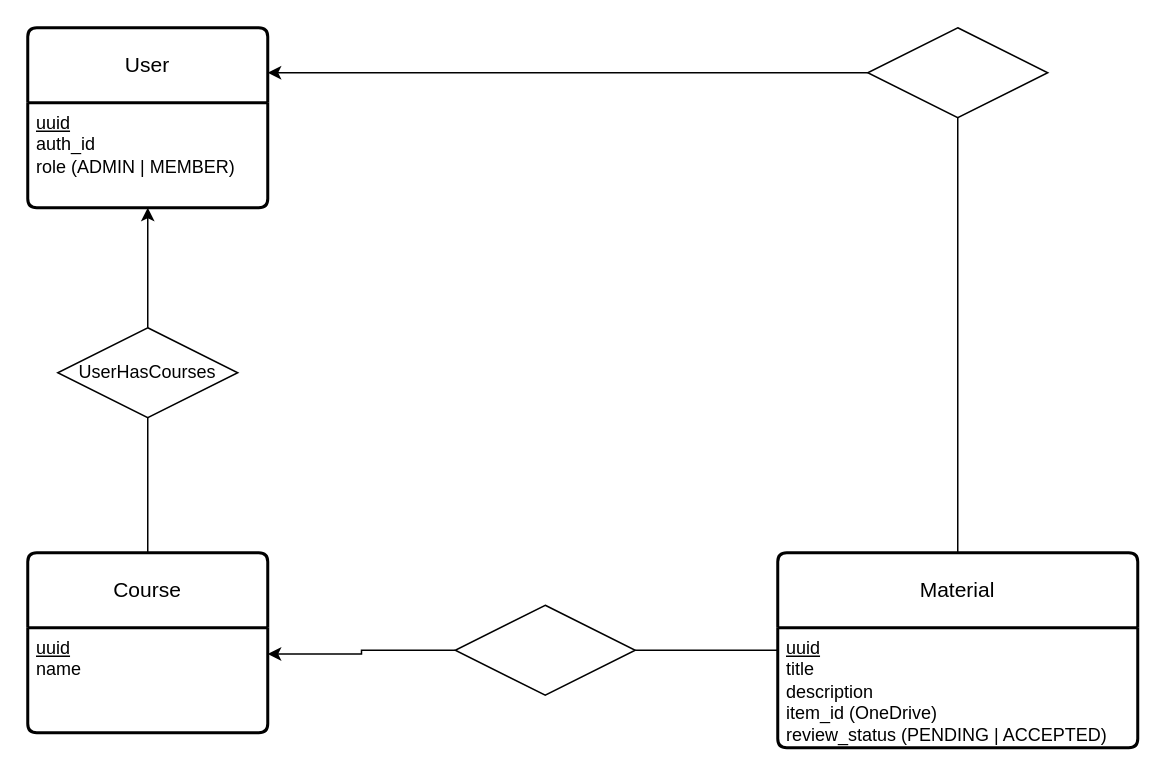
Image size: 1164x774. Some labels were removed from this diagram. Here are the shapes that lost their labels. From the top down, the centre of each, then its label:
point 957,72: UserHasMaterials
point 544,649: CourseHasMaterial
